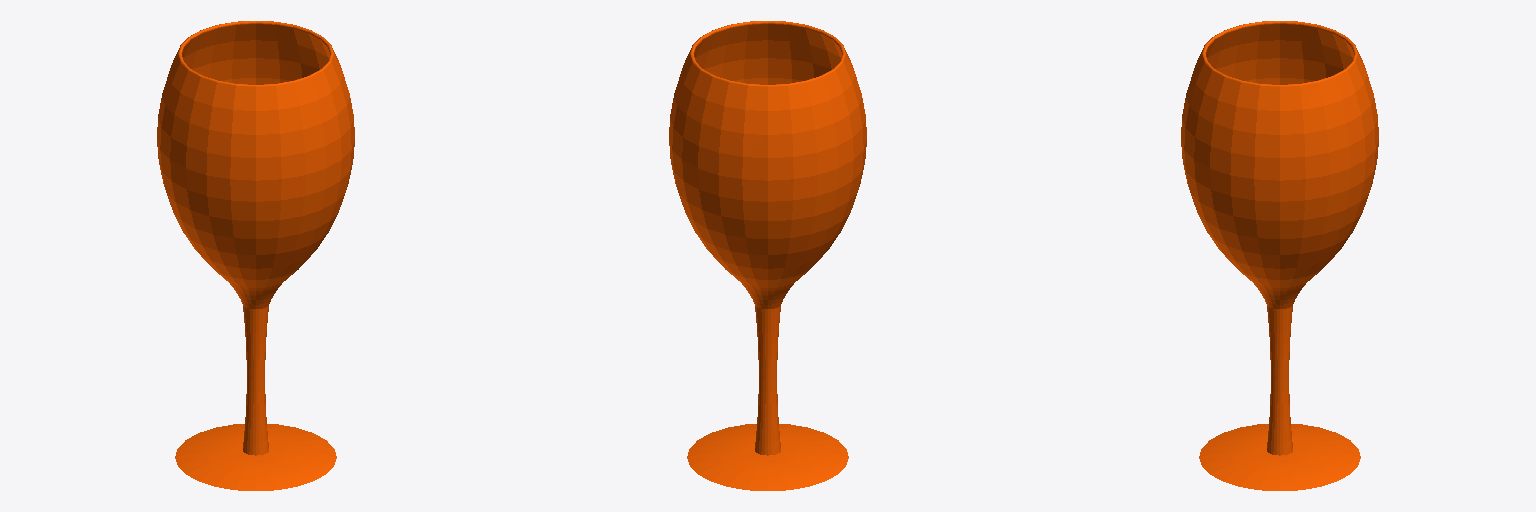
robot.urdf — WineGlass_48c8f3176fbe7b37384368499a680cf1:
<?xml version="1.0" ?>
<robot name="WineGlass_48c8f3176fbe7b37384368499a680cf1">
   <material name="obj_color">
      <color rgba="1.0 0.423529411765 0.0392156862745 1.0"/>
   </material>
   <link name="top">
      <inertial>
         <origin rpy="0.0005964612539929087 0.001105230024766716 0.001105230193758066" xyz="-6.376894112173048e-05 -2.180661438109992e-06 0.02189792564725448"/>
         <mass value="0.6681925337546935"/>
         <inertia ixx="0.001105230024776098" ixy="2.438210968762858e-12" ixz="-3.613355152364677e-09" iyy="0.001105230193722083" iyz="6.911837678389197e-10" izz="0.0005964612540195108"/>
      </inertial>
      <visual>
         <origin rpy="0 0 0" xyz="0 0 0"/>
         <geometry>
            <mesh filename="top_watertight_tiny.stl" scale="1 1 1"/>
         </geometry>
         <material name="obj_color"/>
      </visual>
      <collision>
         <origin rpy="0 0 0" xyz="0 0 0"/>
         <geometry>
            <mesh filename="top_watertight_tiny.obj" scale="1 1 1"/>
         </geometry>
      </collision>
   </link>
   <link name="bottom">
      <inertial>
         <origin rpy="3.019295930027629e-05 3.019325376985033e-05 4.012121321760029e-05" xyz="-6.348385540546485e-05 -2.338165519854918e-06 -0.1231259804637287"/>
         <mass value="0.08755089221487593"/>
         <inertia ixx="3.019325004769154e-05" ixy="3.292590810431149e-11" ixz="2.587878069830987e-10" iyy="3.019296302920906e-05" iyz="-1.675768427672049e-11" izz="4.01212132108263e-05"/>
      </inertial>
      <visual>
         <origin rpy="0 0 0" xyz="0 0 0"/>
         <geometry>
            <mesh filename="bottom_watertight_tiny.stl" scale="1 1 1"/>
         </geometry>
         <material name="obj_color"/>
      </visual>
      <collision>
         <origin rpy="0 0 0" xyz="0 0 0"/>
         <geometry>
            <mesh filename="bottom_watertight_tiny.obj" scale="1 1 1"/>
         </geometry>
      </collision>
   </link>
   <link name="world"/>
   <joint name="world_to_base" type="fixed">
      <origin xyz="0 0 0"/>
      <axis xyz="0 0 0"/>
      <parent link="world"/>
      <child link="bottom"/>
   </joint>
   <joint name="rotation" type="revolute">
      <origin xyz="0 0 0"/>
      <axis xyz="0 0 -1"/>
      <parent link="bottom"/>
      <child link="top"/>
      <dynamics damping="1.0" friction="1.0"/>
      <limit effort="0.1" velocity="0.1" lower="0" upper="0.001"/>
   </joint>
</robot>

--- Render facts (derived) ---
The picture shows the robot from 3 angles, left to right: view 1: azimuth 30°, elevation 25°; view 2: azimuth 150°, elevation 25°; view 3: azimuth 270°, elevation 25°; orthographic projection.
Model WineGlass_48c8f3176fbe7b37384368499a680cf1 with 3 links and 2 joints (1 revolute, 1 fixed), rooted at world, posed all joints at 0.
Visible links, largest first — view 1: top, bottom; view 2: top, bottom; view 3: top, bottom.
Boxes of the visible links, x1,y1,x2,y2 form: top: (157,21,354,368); bottom: (175,366,336,490); top: (669,21,866,368); bottom: (687,366,848,490); top: (1181,21,1378,368); bottom: (1199,366,1360,490).
Bounding box of the posed robot: 0.0961 × 0.0961 × 0.2163 m (x, y, z).
Meshes: 2 distinct files referenced, 2 mesh visuals loaded (2 binary STL).